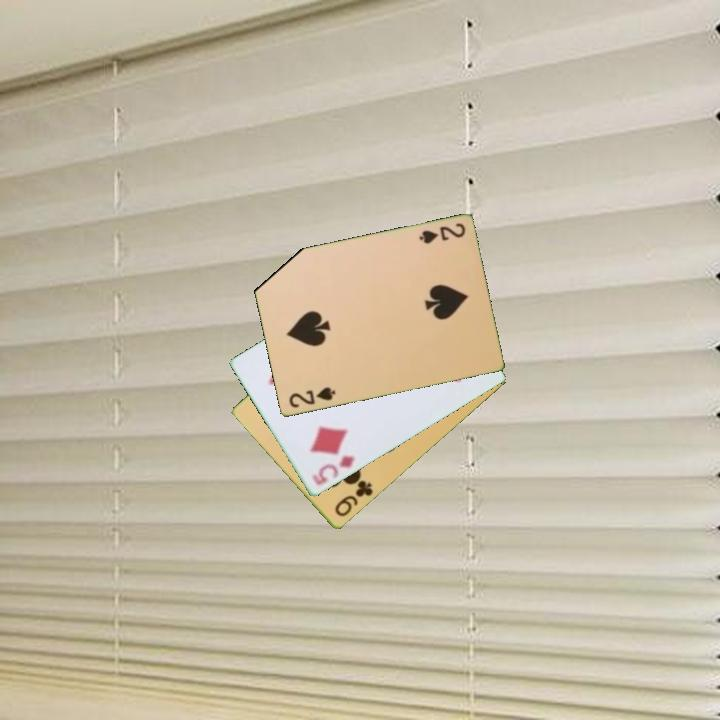2s: (285, 384, 338, 411), (415, 220, 468, 247)
5d: (308, 452, 358, 489)
9c: (331, 477, 376, 520)
